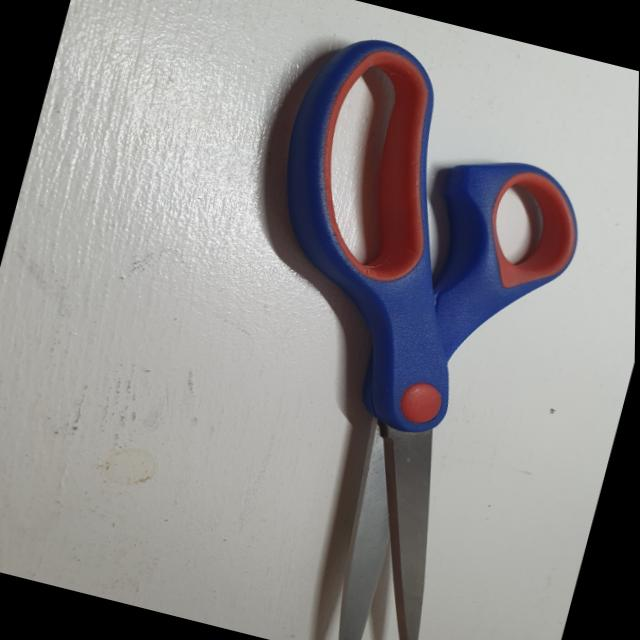scissor: (154, 19, 623, 640)
